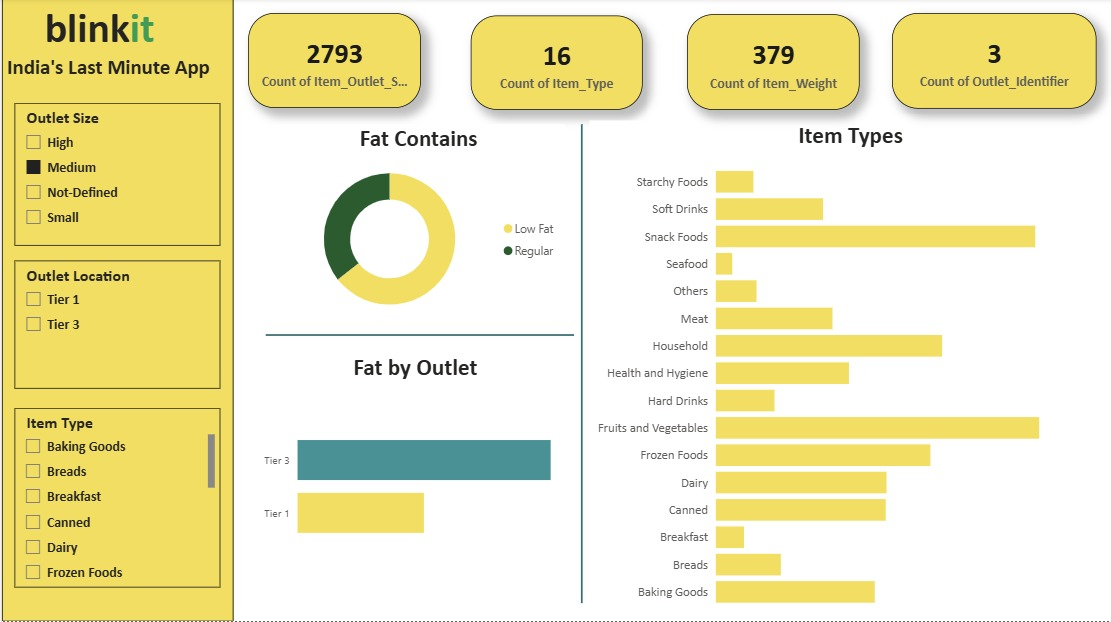

What the dashboard file says about the page in this screenshot:
{"tool":"powerbi","page":{"name":"Blinkit Dashboards","canvas":[1280,720],"ordinal":0},"visuals":[{"type":"textbox","box":[0,17.8,251.1,81],"z":0},{"type":"textbox","box":[0,0,267.6,720.4],"z":1000},{"type":"textbox","box":[60.4,120.8,124.9,41.2],"z":2000},{"type":"card","fields":{"Values":["CountNonNull(BlinkIT Grocery Project.Item_Outlet_Sales)"]},"box":[284,17.8,199,109.8],"z":3000},{"type":"card","fields":{"Values":["Count(BlinkIT Grocery Project.Item_Type)"]},"box":[540.5,19.6,198.1,108.8],"z":4000},{"type":"slicer","fields":{"Values":["BlinkIT Grocery Project.Outlet_Size"]},"box":[13.7,120.8,237.4,164.7],"z":5000},{"type":"slicer","fields":{"Values":["BlinkIT Grocery Project.Outlet_Location_Type"]},"box":[13.7,303.3,237.4,148.2],"z":6000},{"type":"slicer","fields":{"Values":["BlinkIT Grocery Project.Item_Type"]},"box":[13.7,473.4,237.4,207.2],"z":7000},{"type":"donutChart","title":"Fat Contains","fields":{"Category":["BlinkIT Grocery Project.Item_Fat_Content"],"Y":["CountNonNull(BlinkIT Grocery Project.Item_Type)"]},"box":[311.8,145.5,338.7,232.3],"z":8000},{"type":"shape","box":[304.5,286.1,355.8,206.7],"z":9000},{"type":"barChart","title":"Fat by Outlet","fields":{"Category":["BlinkIT Grocery Project.Outlet_Location_Type"],"Y":["CountNonNull(BlinkIT Grocery Project.Item_Fat_Content)"]},"box":[294.7,409.6,365.6,270.2],"z":10000},{"type":"barChart","title":"Item Types","fields":{"Category":["BlinkIT Grocery Project.Item_Type"],"Y":["CountNonNull(BlinkIT Grocery Project.Item_Fat_Content)"]},"box":[677.4,141.8,602.9,574.7],"z":11000},{"type":"card","fields":{"Values":["Count(BlinkIT Grocery Project.Item_Weight)"]},"box":[789.9,18.3,199.3,110.1],"z":12000},{"type":"card","fields":{"Values":["Count(BlinkIT Grocery Project.Outlet_Identifier)"]},"box":[1027.2,17.1,236,110.1],"z":13000},{"type":"shape","box":[519.7,145.5,299.6,552.7],"z":14000}]}

Visuals, with their boxes in screenshot pixels (x1, y1, x2, y2), scaled from the page's 1280x720 canvas onto the 1111x622 screenshot:
textbox: (x1=0, y1=15, x2=218, y2=85)
textbox: (x1=0, y1=0, x2=232, y2=621)
textbox: (x1=52, y1=104, x2=161, y2=140)
card - CountNonNull(BlinkIT Grocery Project.Item_Outlet_Sales): (x1=247, y1=15, x2=419, y2=110)
card - Count(BlinkIT Grocery Project.Item_Type): (x1=469, y1=17, x2=641, y2=111)
slicer - BlinkIT Grocery Project.Outlet_Size: (x1=12, y1=104, x2=218, y2=247)
slicer - BlinkIT Grocery Project.Outlet_Location_Type: (x1=12, y1=262, x2=218, y2=390)
slicer - BlinkIT Grocery Project.Item_Type: (x1=12, y1=409, x2=218, y2=588)
"Fat Contains" donutChart: (x1=271, y1=126, x2=565, y2=326)
shape: (x1=264, y1=247, x2=573, y2=426)
"Fat by Outlet" barChart: (x1=256, y1=354, x2=573, y2=587)
"Item Types" barChart: (x1=588, y1=122, x2=1110, y2=619)
card - Count(BlinkIT Grocery Project.Item_Weight): (x1=686, y1=16, x2=859, y2=111)
card - Count(BlinkIT Grocery Project.Outlet_Identifier): (x1=892, y1=15, x2=1096, y2=110)
shape: (x1=451, y1=126, x2=711, y2=603)
